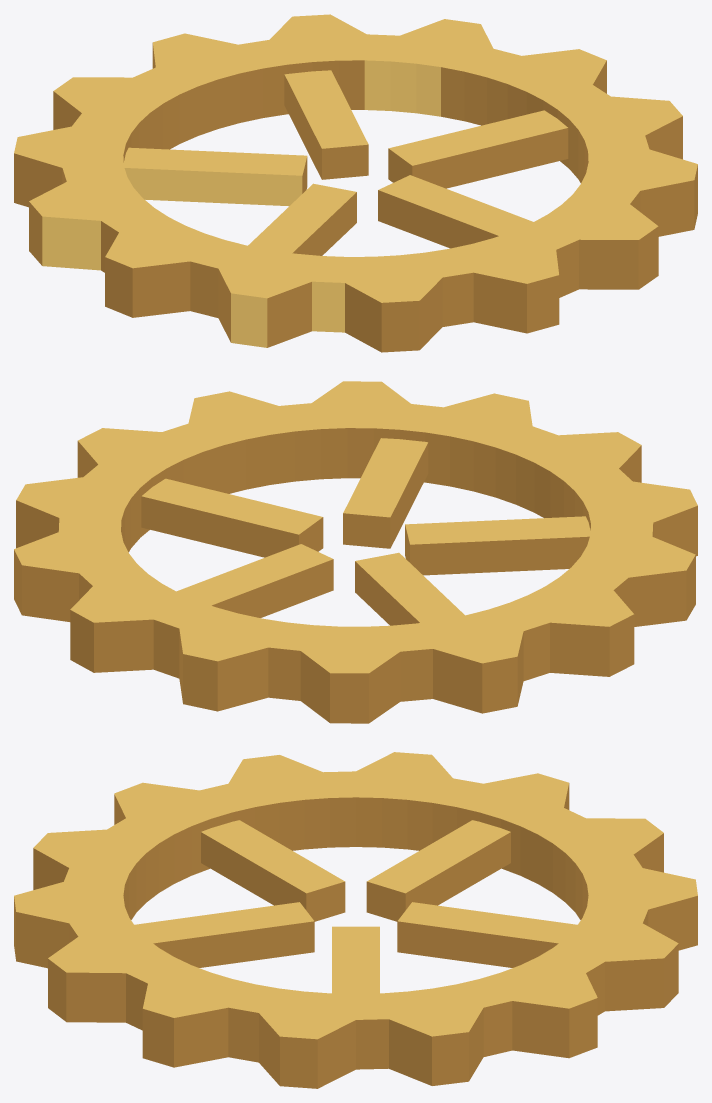
The model's file is chrono_gear.glb.
The picture shows the model from 3 angles, top to bottom: view 1: azimuth 30°, elevation 25°; view 2: azimuth 150°, elevation 25°; view 3: azimuth 270°, elevation 25°; orthographic projection.
Parts seen in each view (by area): view 1: chrono_gear; view 2: chrono_gear; view 3: chrono_gear.
Boxes of the visible parts, x1=… form: chrono_gear: x1=14, y1=14, x2=697, y2=352; chrono_gear: x1=14, y1=381, x2=697, y2=723; chrono_gear: x1=14, y1=752, x2=697, y2=1088.
Bounding box in the file's own units: 1.99 × 0.16 × 2.
